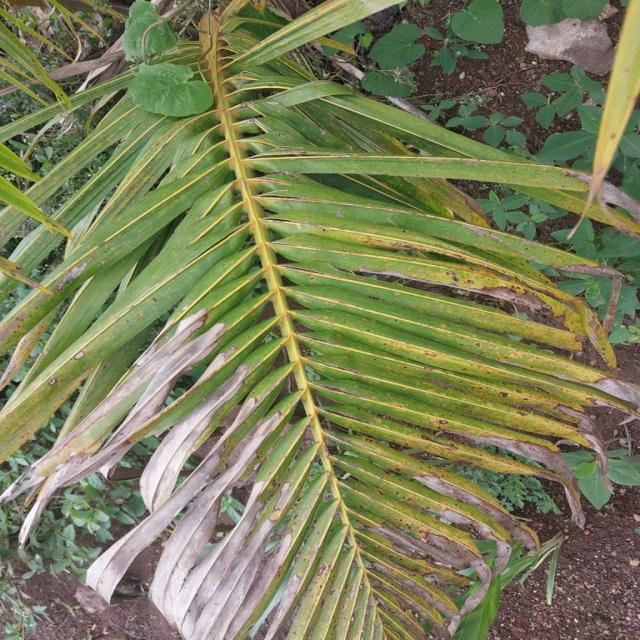gray leaf spot: (83, 295, 292, 629)
